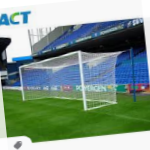goals: (18, 49, 118, 111)
